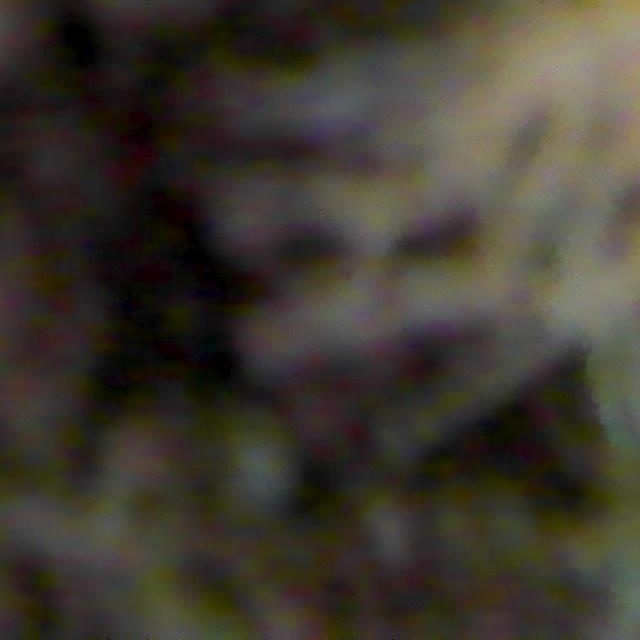SeaGrape: (357, 494, 423, 569)
